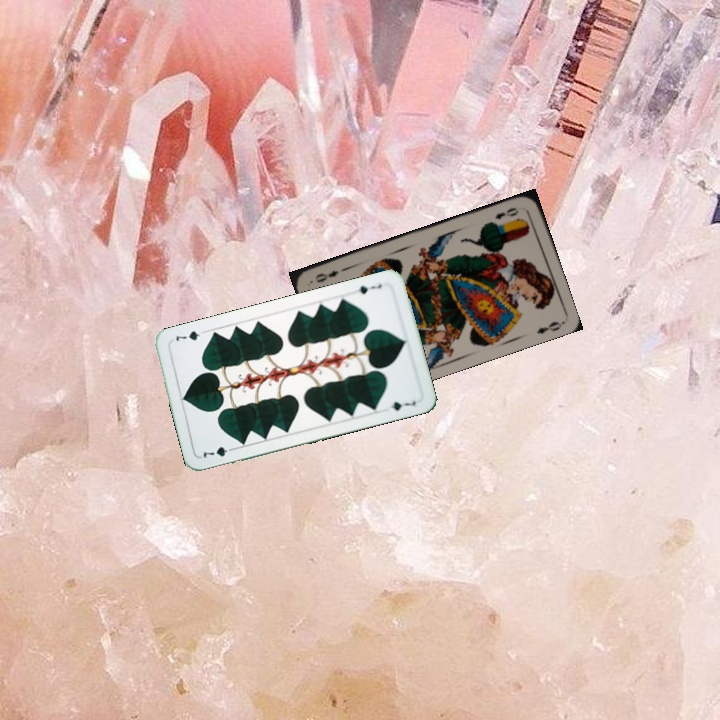EO: (491, 203, 521, 222)
G7: (199, 442, 238, 461), (354, 280, 384, 297)
